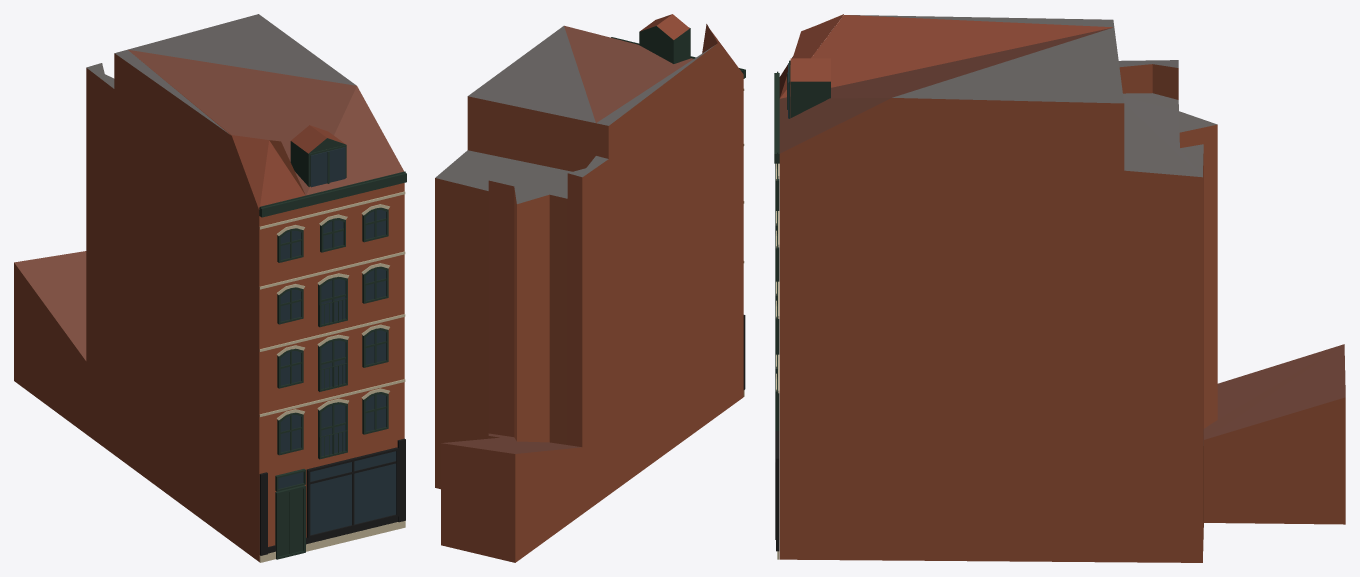
Rendered from recipe-bilder-155417.glb.
3 renders of one model, left to right at view 1: azimuth 30°, elevation 25°; view 2: azimuth 150°, elevation 25°; view 3: azimuth 270°, elevation 25°, orthographic. The views are drawn at different scales.
Visible parts, largest first — view 1: bilder-155417; view 2: bilder-155417; view 3: bilder-155417.
Boxes of the visible parts, <box> form: bilder-155417: <box>14,14,406,562</box>; bilder-155417: <box>435,14,745,562</box>; bilder-155417: <box>774,14,1345,562</box>.
Size of the model in its own units: 6.41 by 16.49 by 18.38.
